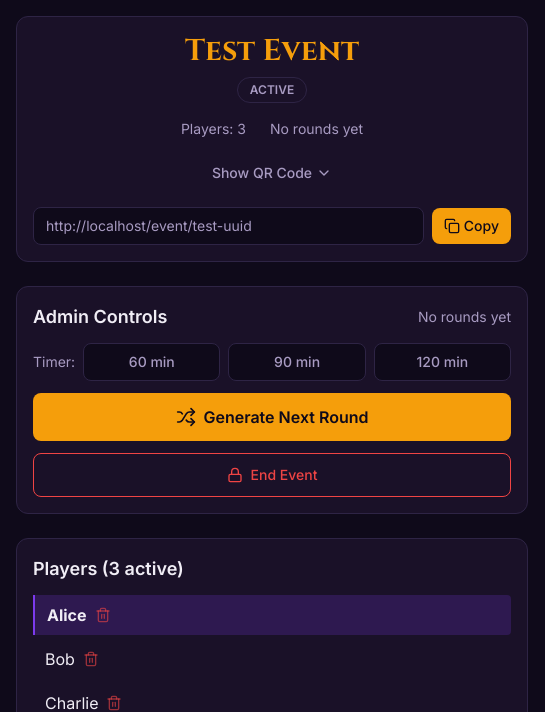
Generate Round › shows error when fewer than 4 active players
This screenshot has width=545, height=712.
Note: Click generate round — the client-side algorithm will throw
Click the button with test id "generate-round-btn".
click(272, 417)  # box x1=33 y1=393 x2=511 y2=441
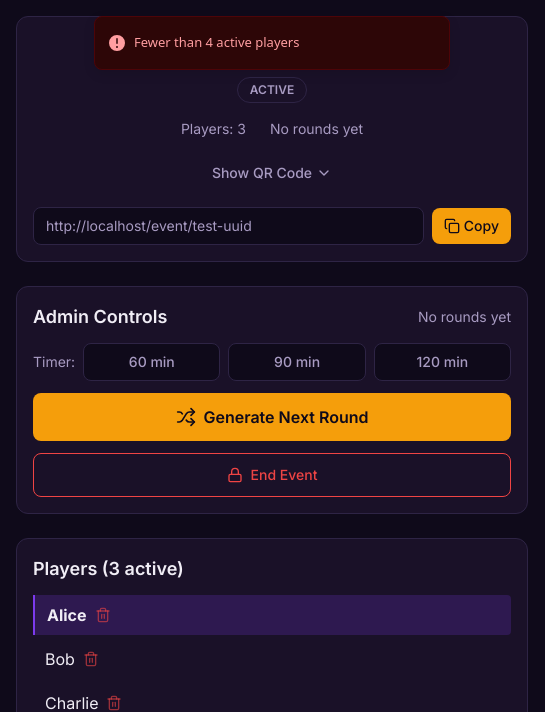
Now the list item "Fewer than 4 active players" is shown, box x1=94 y1=16 x2=450 y2=70
Now the text "Fewer than 4 active players" is shown, box x1=134 y1=33 x2=300 y2=52
